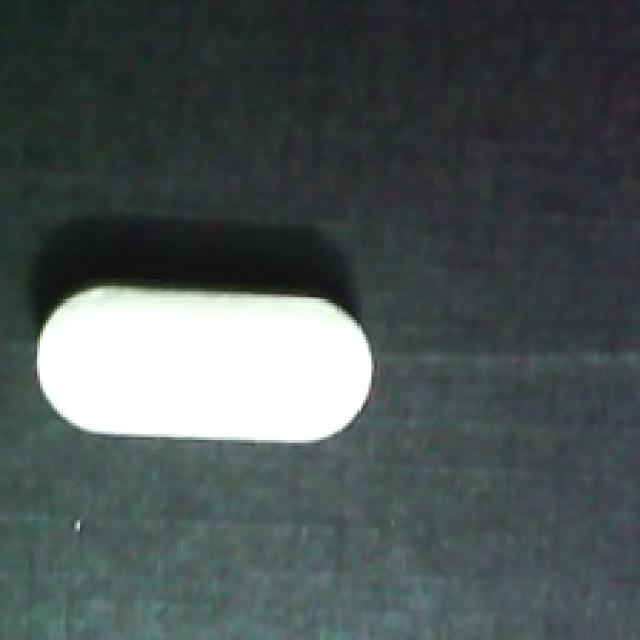no-defect: (31, 271, 377, 454)
